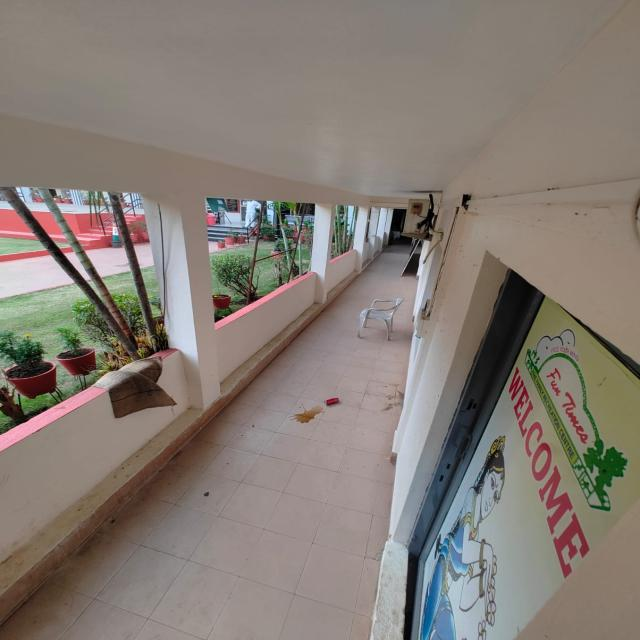cup: (323, 398, 342, 405)
spill: (294, 405, 326, 423)
